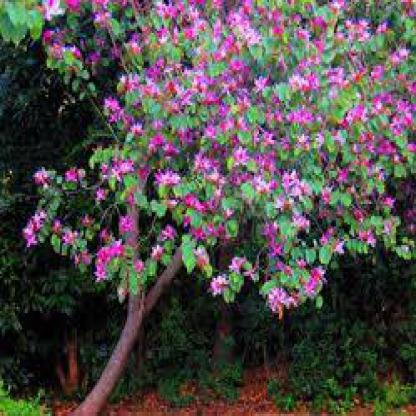Kenanga: (53, 49, 169, 230), (116, 38, 210, 201), (330, 98, 367, 144)
